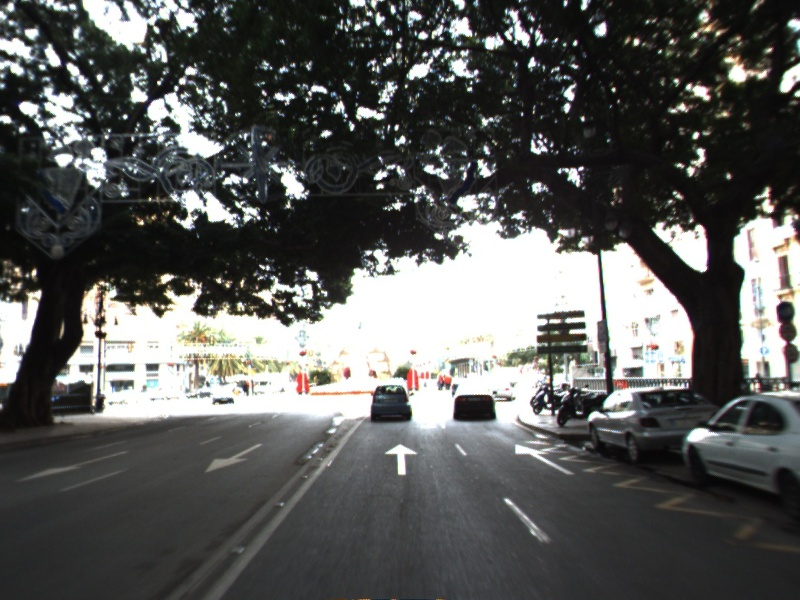STRAIGHT: (513, 442, 577, 477), (383, 442, 420, 477)
